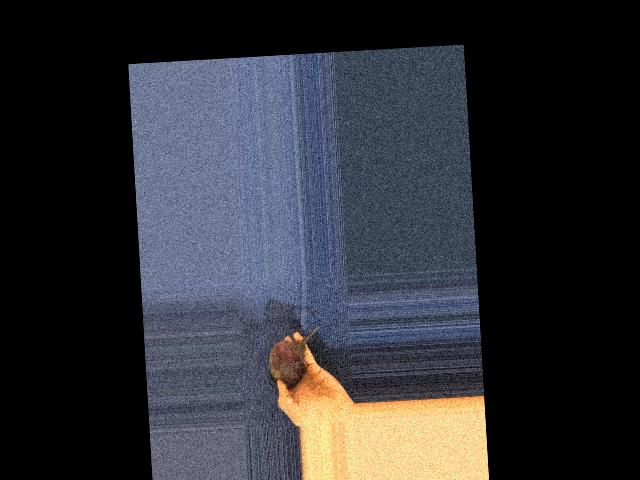beet: (265, 326, 323, 389)
